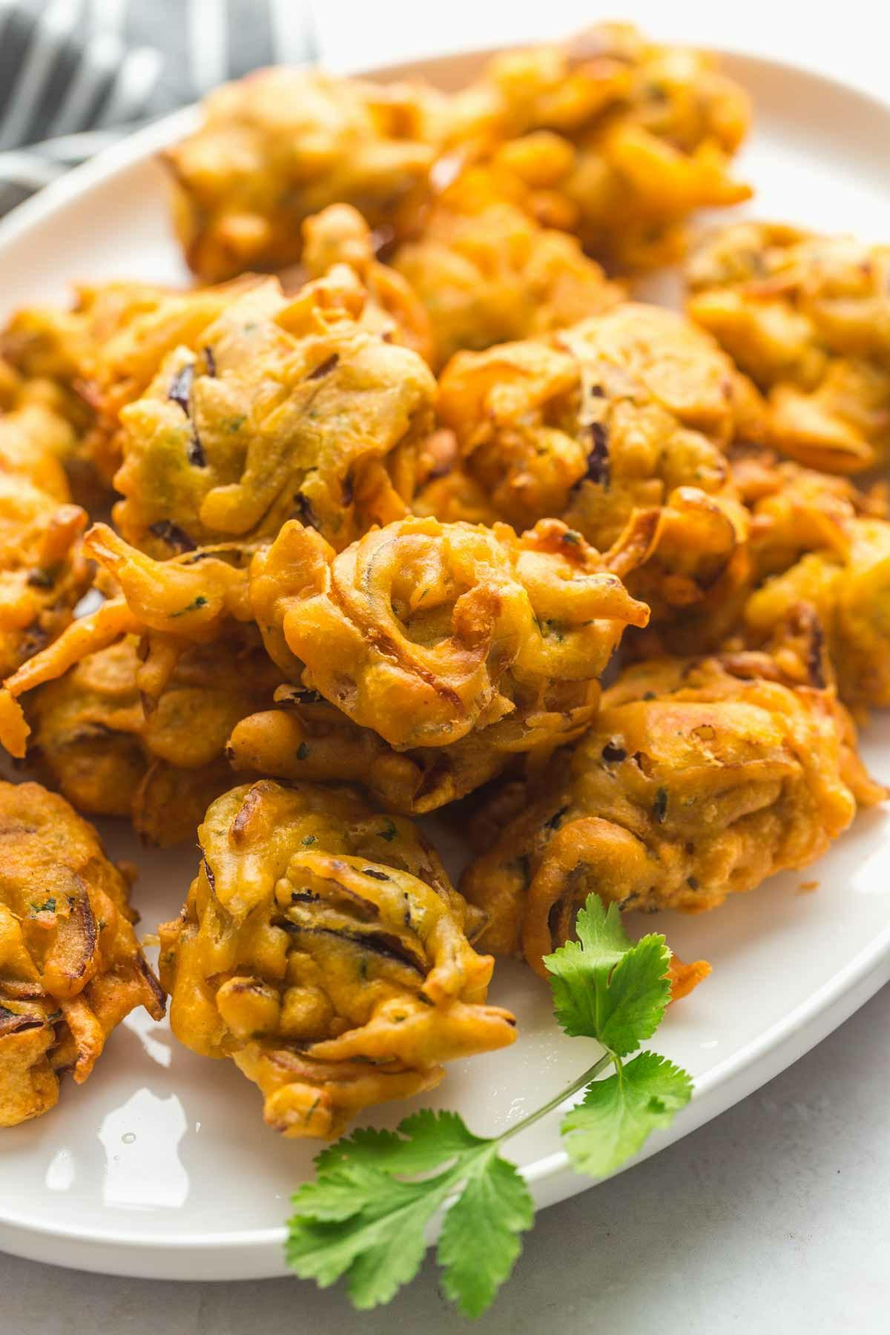OnionPakoda: (0, 16, 890, 1151)
